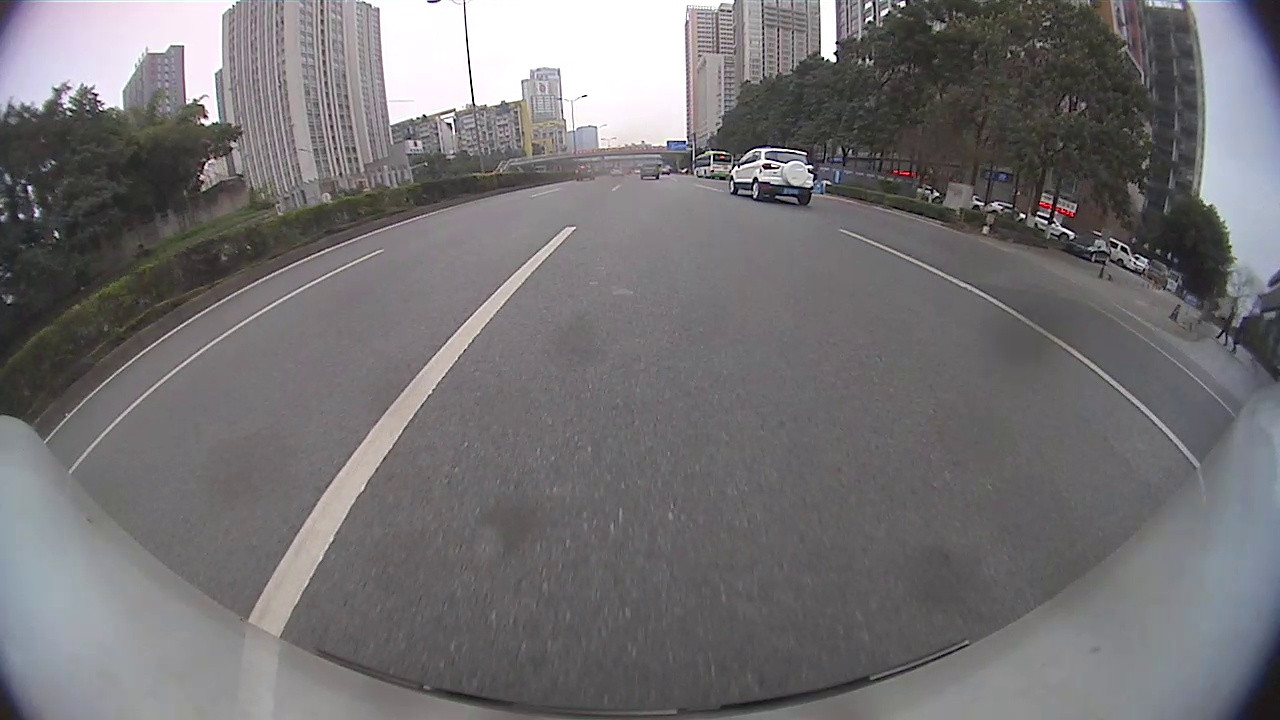bus: (694, 151, 734, 181)
car: (727, 147, 816, 207), (1067, 229, 1114, 265), (639, 162, 660, 179), (575, 165, 593, 182)
front: (727, 177, 738, 196)
rear: (750, 182, 763, 202)
